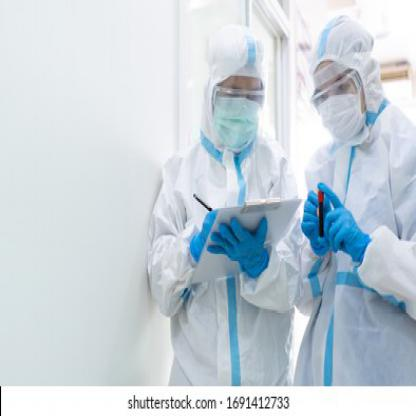with_gloves: (320, 184, 371, 263), (209, 217, 270, 276), (301, 190, 333, 259), (188, 211, 216, 261)
